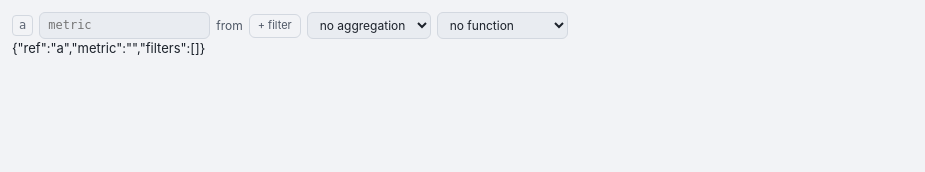
QueryRow › a selected range function exposes window and across, and clearing the function drops them
This screenshot has width=925, height=172.
Expected: the field labelled "Window" is not shown
Select "rate" in the dropdown named "Function" at {"x": 502, "y": 26}, box [437,12,568,39]
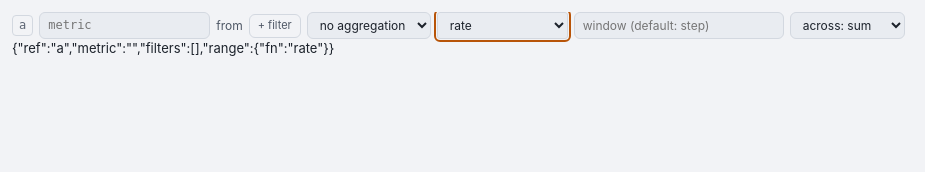
Type "5m" into the field labelled "window".
click(679, 26); type("5m")  # box [574,12,784,39]
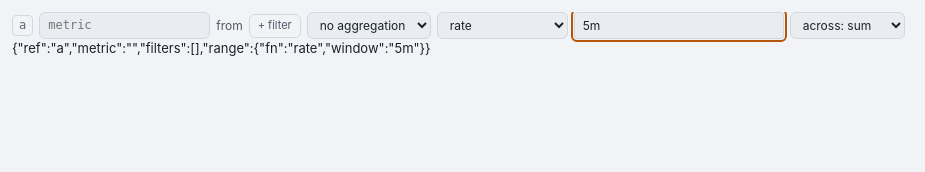
Select "across: avg" in the dropdown named "Across" at {"x": 847, "y": 26}, box [790,12,905,39]
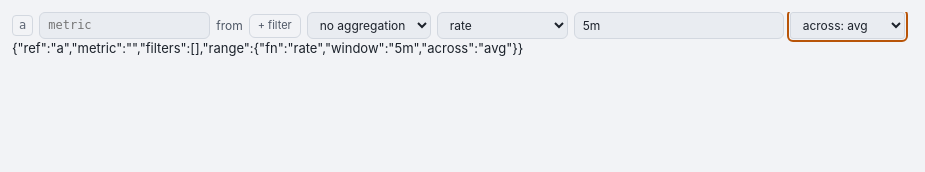
Select "no function" in the dropdown named "Function" at {"x": 502, "y": 26}, box [437,12,568,39]
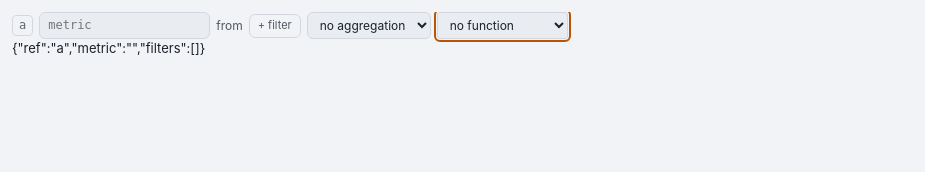
Expected: the text labelled "window" is gone
